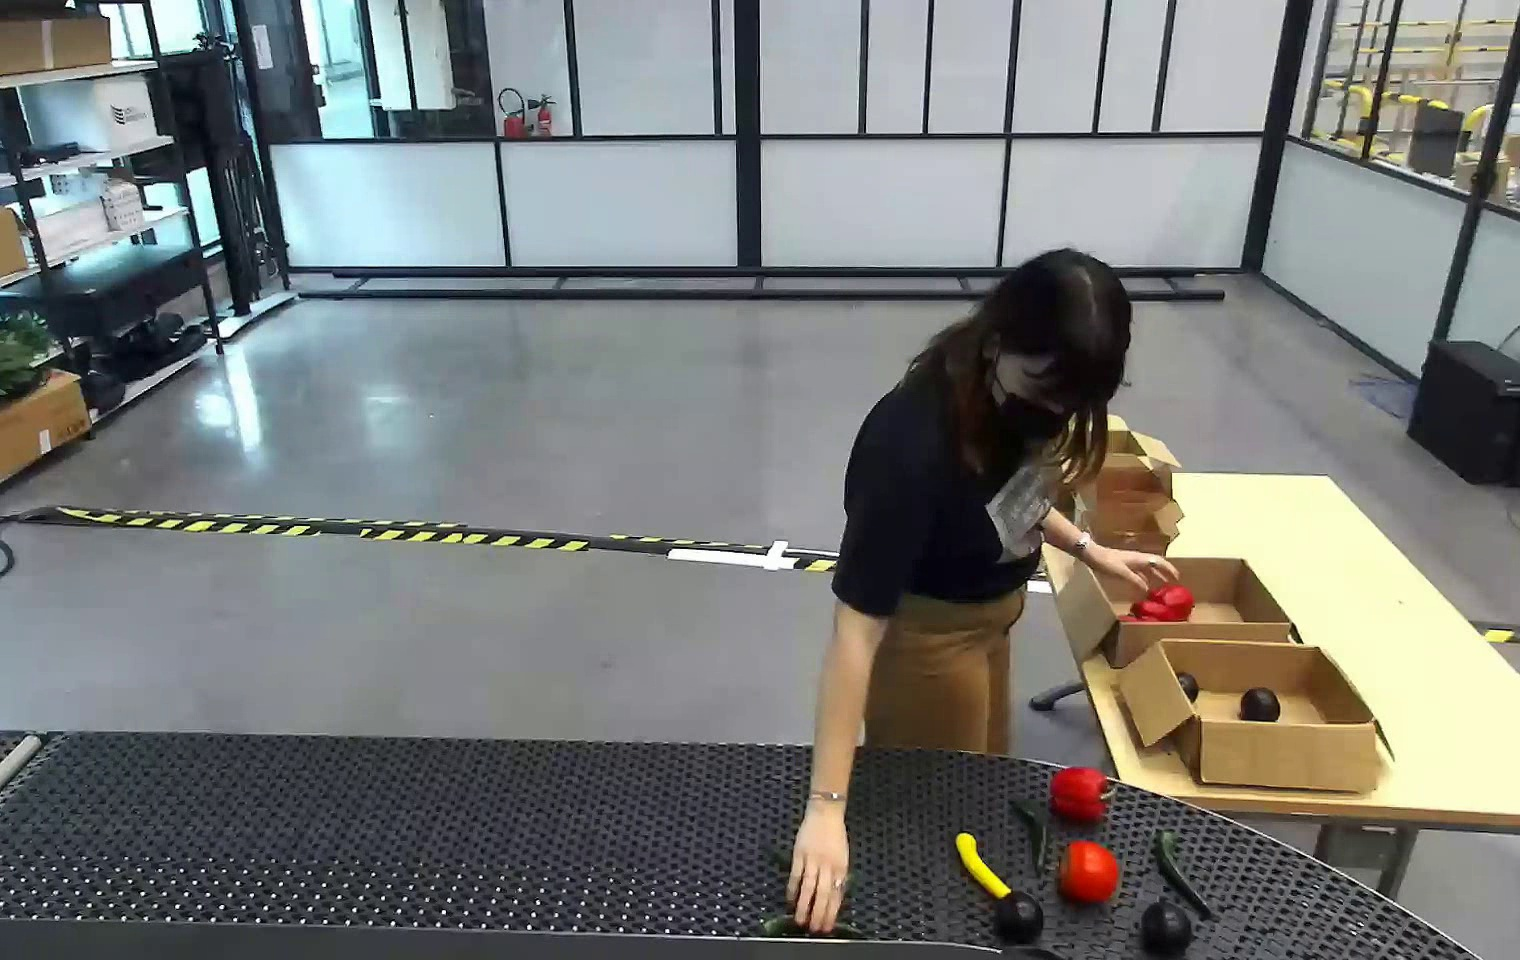Main droite: (786, 801, 851, 932)
